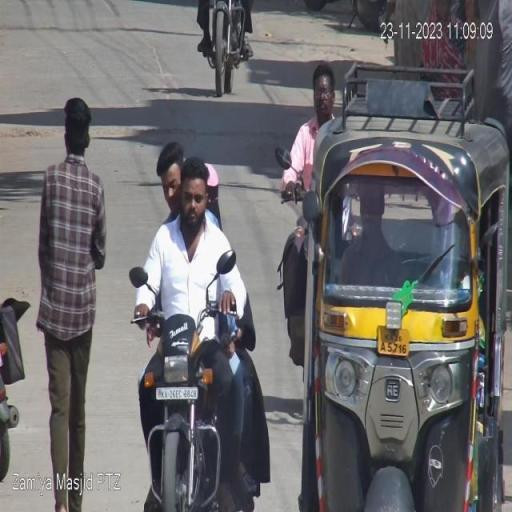tripple riding: (122, 135, 252, 330)
